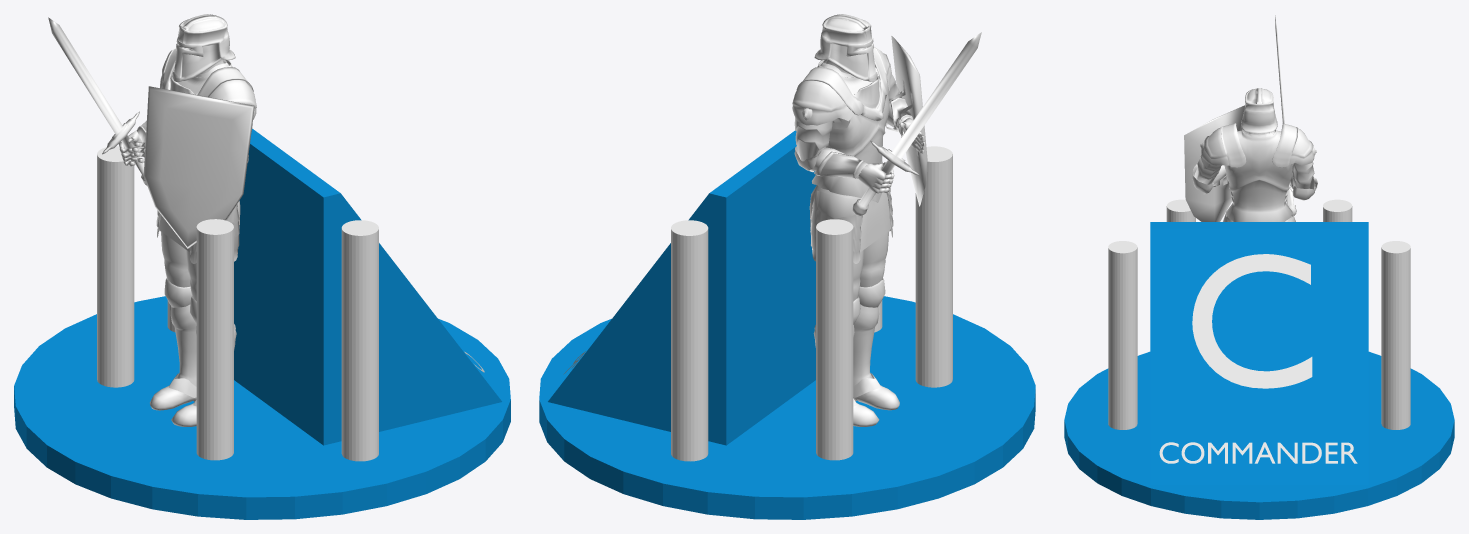
The model's file is TCCommander.fbx.
The picture shows the model from 3 angles, left to right: view 1: azimuth 30°, elevation 25°; view 2: azimuth 150°, elevation 25°; view 3: azimuth 270°, elevation 25°; orthographic projection. The views are drawn at different scales.
Parts seen in each view (by area): view 1: Commander; view 2: Commander; view 3: Commander.
Part boxes in pixels (box(x1,y1,x2,y2)): Commander: box(14, 14, 510, 519); Commander: box(539, 14, 1035, 519); Commander: box(1064, 15, 1454, 519).
Size of the model in its own units: 180 by 176 by 180.
